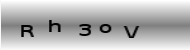3: (77, 22, 91, 38)
R: (19, 23, 35, 38)
V: (122, 24, 140, 39)
h: (47, 18, 61, 33)
o: (98, 23, 112, 34)
